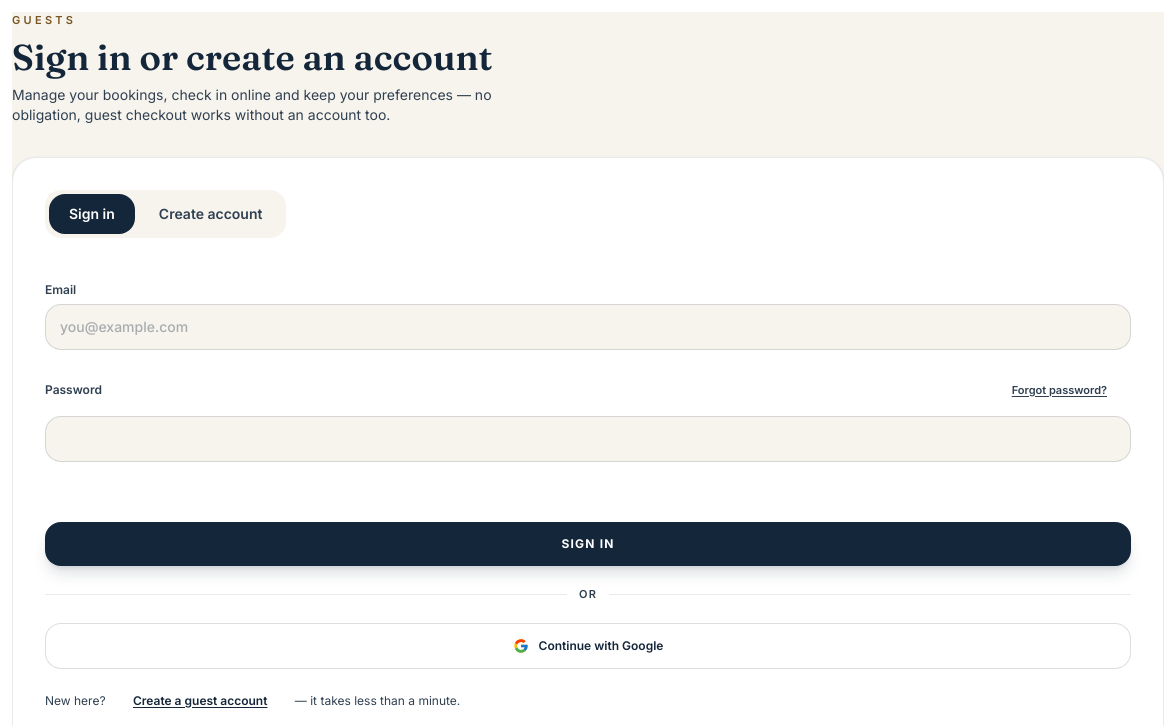
Test case: AccountFlow (signed out) › shows field errors for an empty login
Click the button "Sign in". click: (588, 544)
box: [45,522,1131,566]
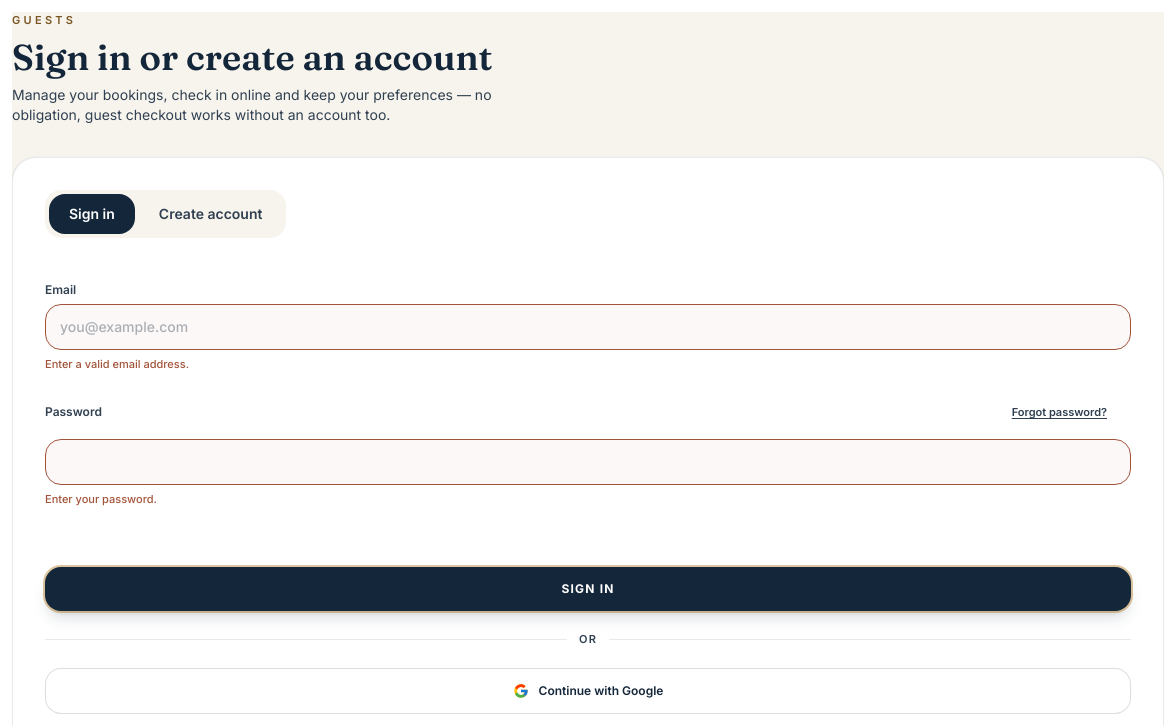
Expected: the text "Enter a valid email address." is shown, [45,356,189,370]
Expected: the text "Enter your password." is shown, [45,492,157,506]
